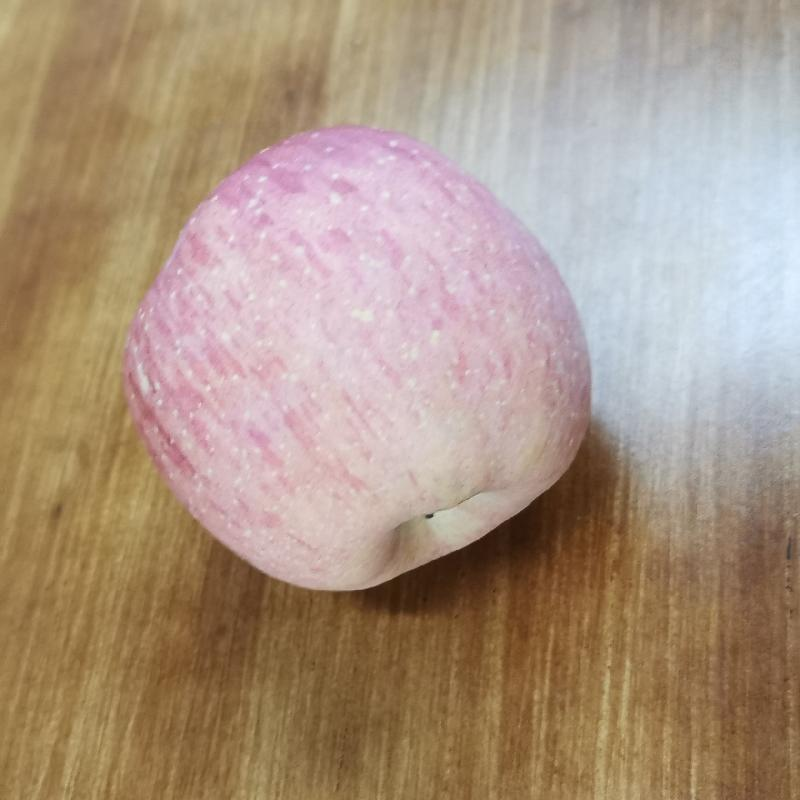apples: (119, 121, 595, 594)
